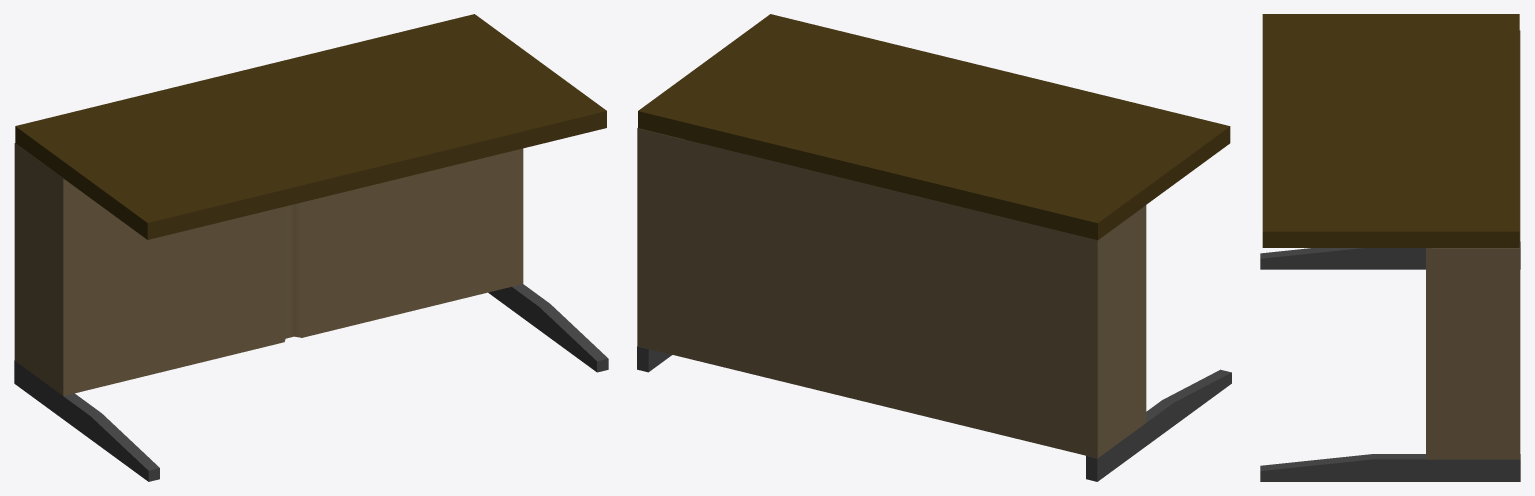
The model's file is DD_5_computerTable_HENRY.fbx.
The picture shows the model from 3 angles, left to right: view 1: azimuth 30°, elevation 25°; view 2: azimuth 150°, elevation 25°; view 3: azimuth 270°, elevation 25°; orthographic projection. The views are drawn at different scales.
Parts seen in each view (by area): view 1: compTableBase, compTableDesk, compTableLegs; view 2: compTableBase, compTableDesk, compTableLegs; view 3: compTableDesk, compTableBase, compTableLegs.
Boxes of the visible parts, x1=… form: compTableBase: x1=14, y1=143, x2=523, y2=395; compTableDesk: x1=15, y1=14, x2=606, y2=239; compTableLegs: x1=14, y1=284, x2=608, y2=481; compTableBase: x1=637, y1=128, x2=1146, y2=458; compTableDesk: x1=638, y1=14, x2=1230, y2=240; compTableLegs: x1=637, y1=346, x2=1231, y2=481; compTableDesk: x1=1262, y1=14, x2=1519, y2=247; compTableBase: x1=1426, y1=30, x2=1520, y2=459; compTableLegs: x1=1260, y1=241, x2=1520, y2=481.
Bounding box in the file's own units: 11.94 × 6.4 × 6.04.
